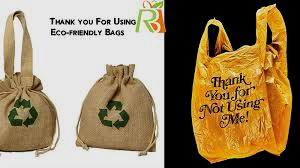Plastic: (193, 4, 290, 163)
